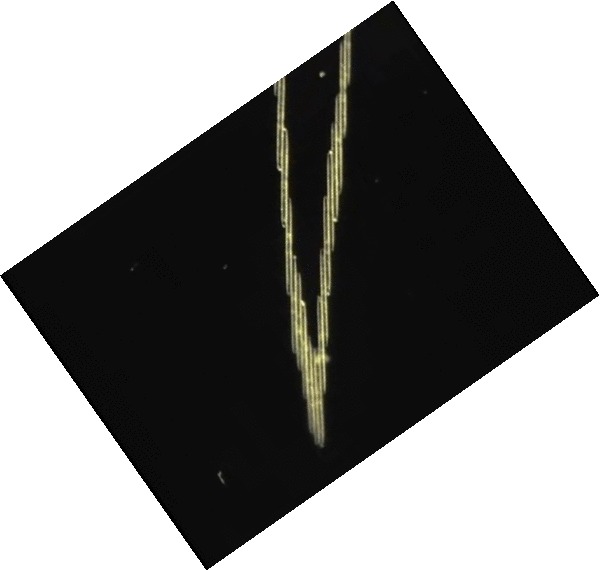bacilleria: (311, 347, 324, 446), (316, 297, 328, 394), (320, 250, 330, 345), (327, 150, 336, 250), (323, 196, 332, 294), (331, 125, 340, 220), (276, 79, 285, 171), (338, 44, 347, 136), (291, 255, 299, 353), (286, 197, 293, 296), (336, 96, 343, 194), (281, 128, 288, 226), (306, 338, 313, 434), (343, 33, 353, 86), (298, 299, 305, 371)
